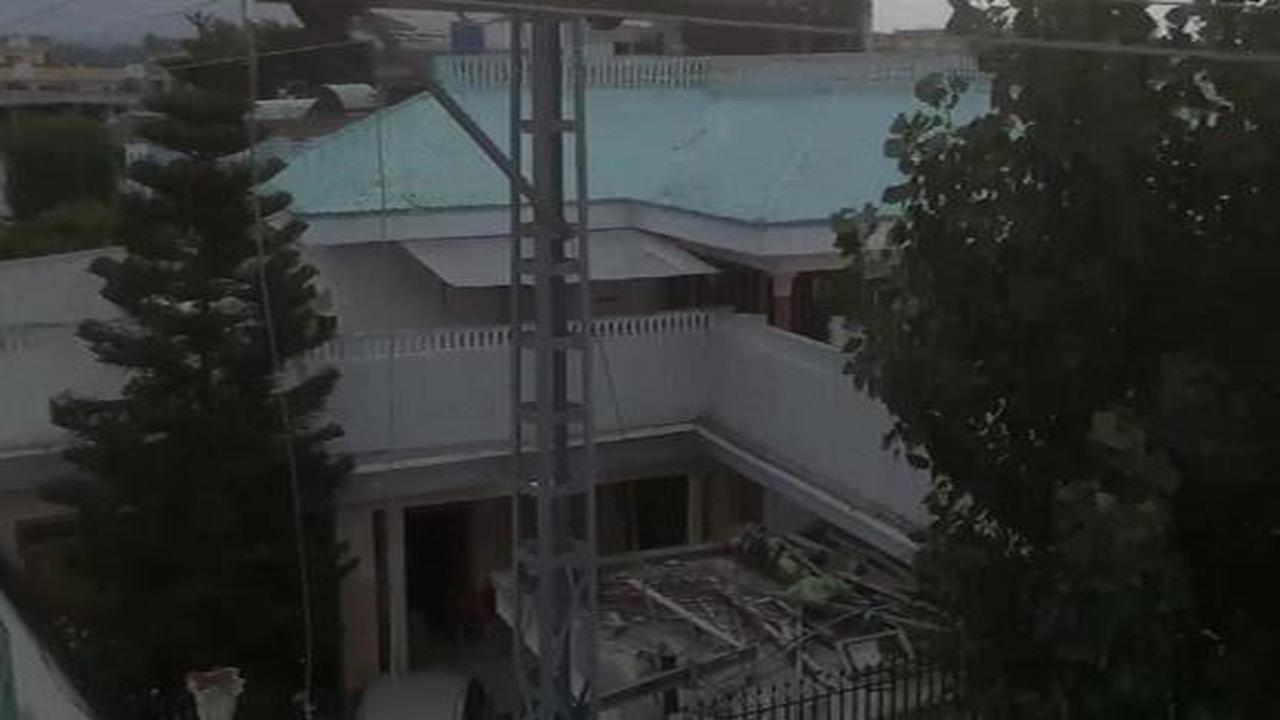insulator_disc: (319, 12, 339, 28)
